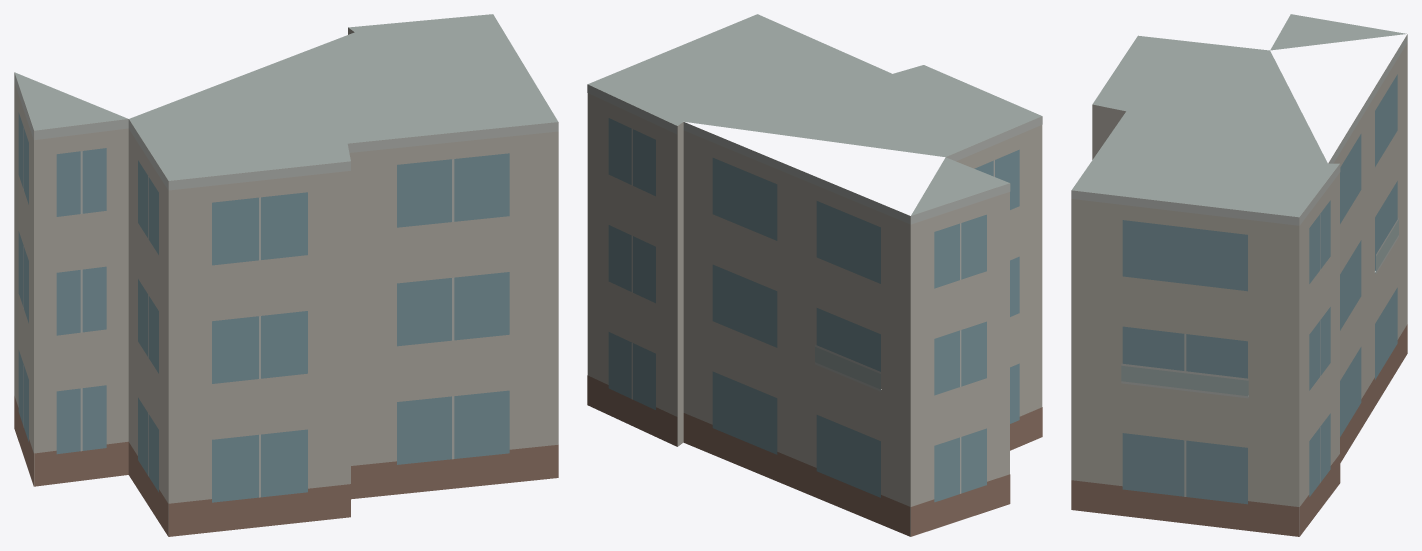
File: survey-upis-32459360.glb
3 views of the same model, side by side, from view 1: azimuth 30°, elevation 25°; view 2: azimuth 150°, elevation 25°; view 3: azimuth 270°, elevation 25° (orthographic). The views are drawn at different scales.
Parts seen in each view (by area): view 1: survey-upis-32459360.tmp; view 2: survey-upis-32459360.tmp; view 3: survey-upis-32459360.tmp.
Part boxes in pixels (x1=…): survey-upis-32459360.tmp: x1=14, y1=14, x2=558, y2=536; survey-upis-32459360.tmp: x1=587, y1=14, x2=1042, y2=536; survey-upis-32459360.tmp: x1=1071, y1=14, x2=1407, y2=536.
Bounding box in the file's own units: 12.5 × 9.15 × 8.73.
